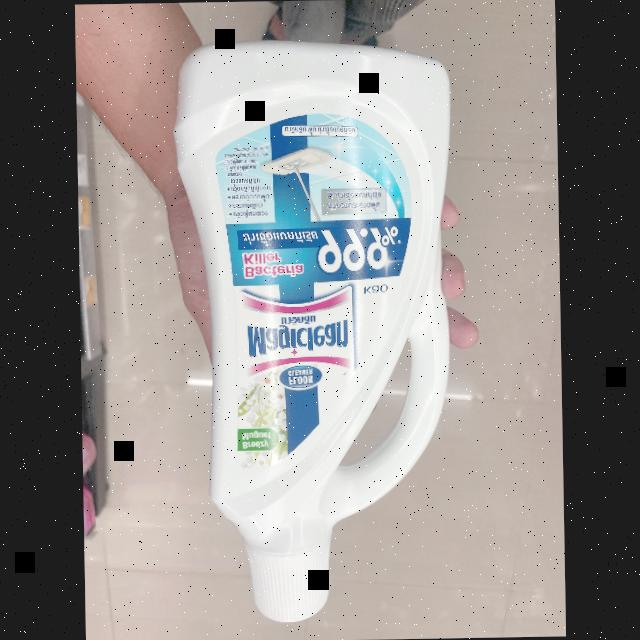chemical_plastic_gallon: (168, 31, 468, 626)
